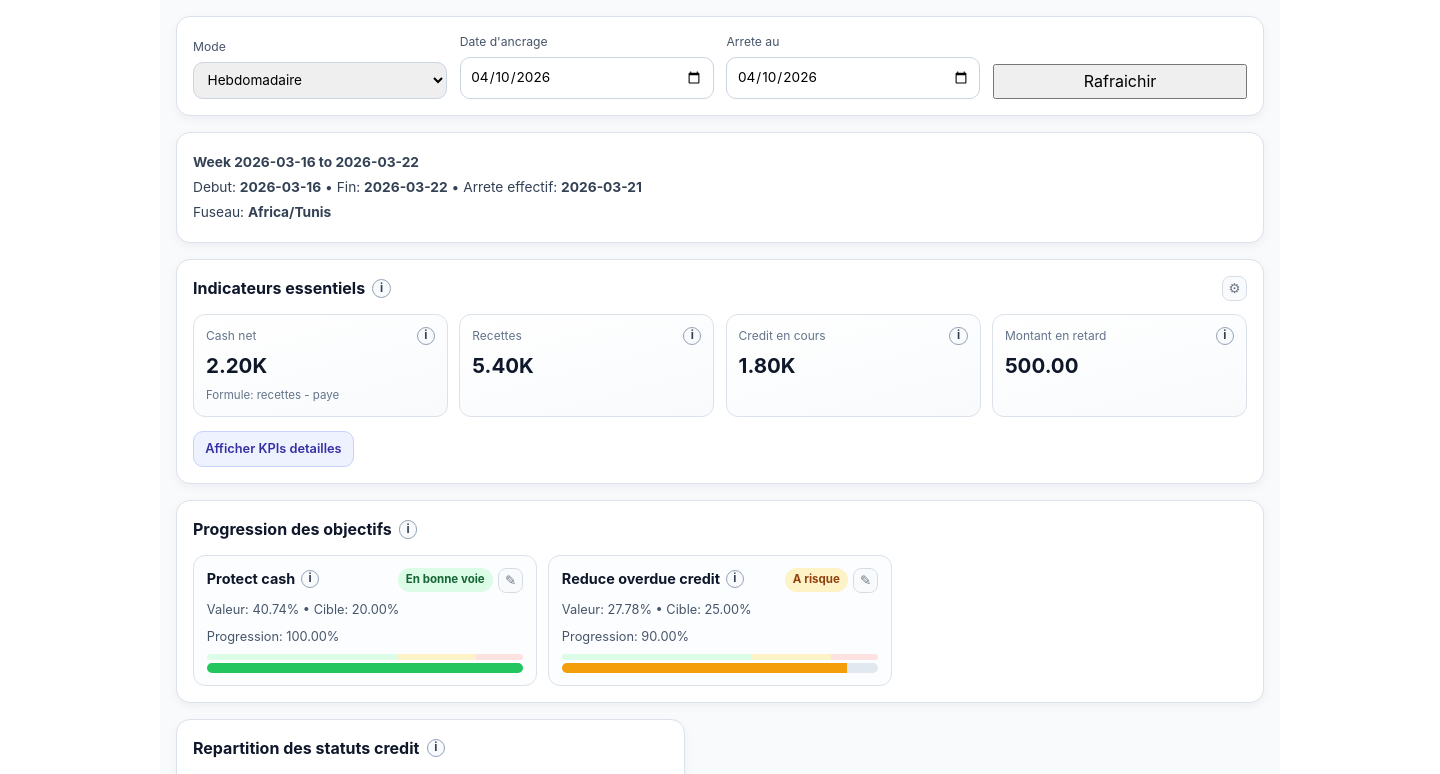
it: HomeDashboardPage visual refresh › opens KPI tooltip and keeps placeholder buttons non-functional
Expected: the heading "Indicateurs essentiels" is shown, [193, 276, 365, 301]
Focus the button named "Infos Recettes": x=692, y=336 [683, 327, 701, 345]
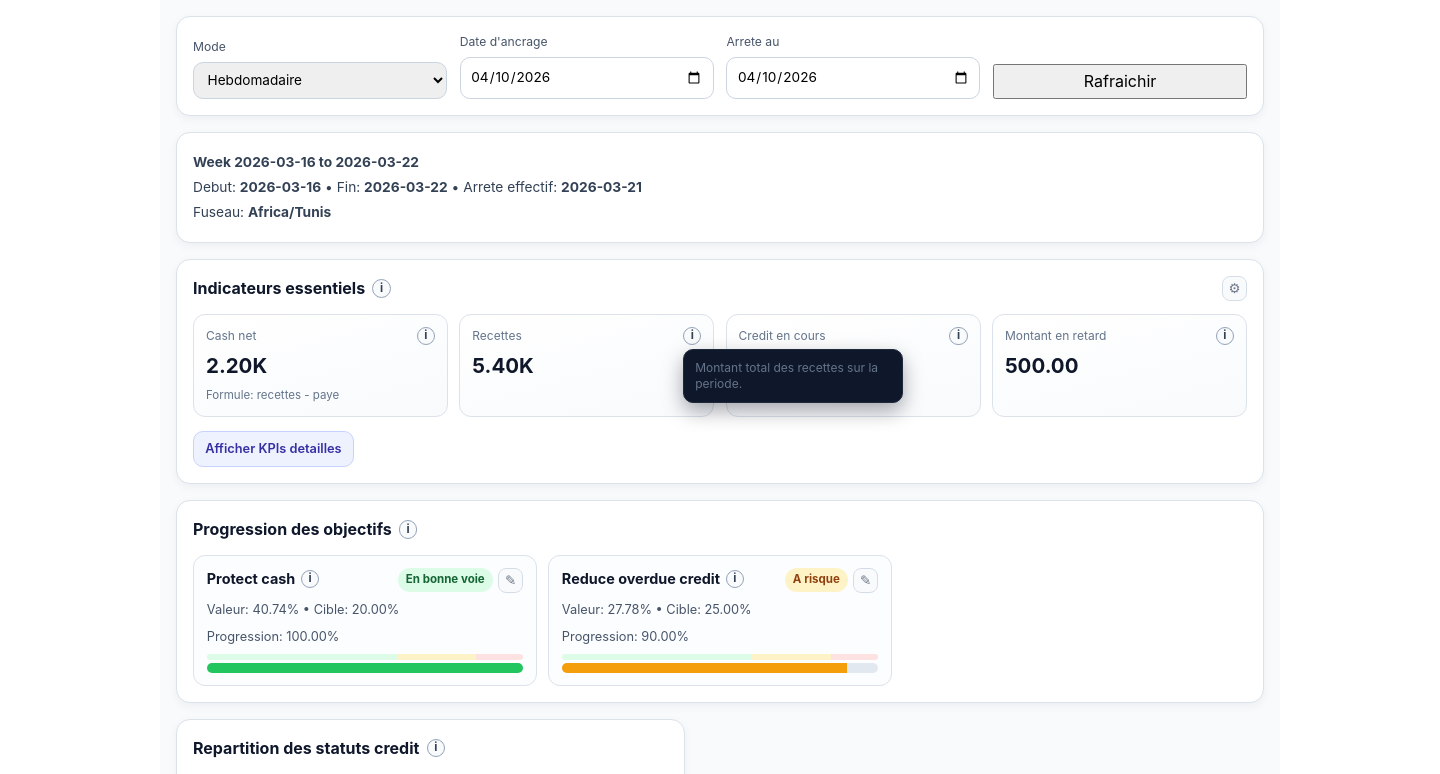
Expected: the tooltip "Montant total des recettes sur la periode." is shown, [683, 349, 903, 403]
